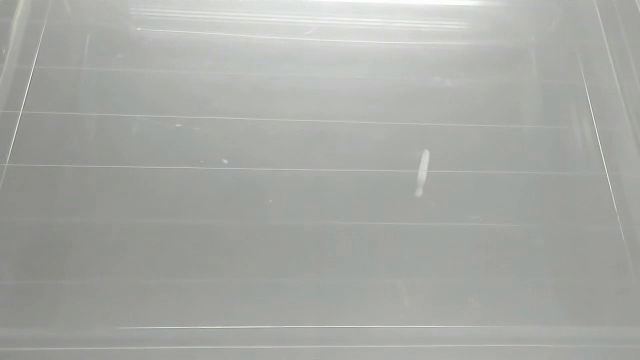alpha: (411, 147, 433, 200)
